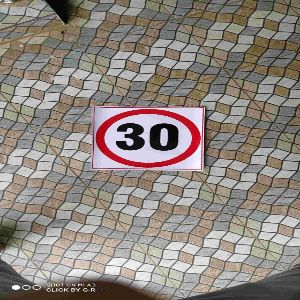speedlimit30: (95, 106, 204, 171)
